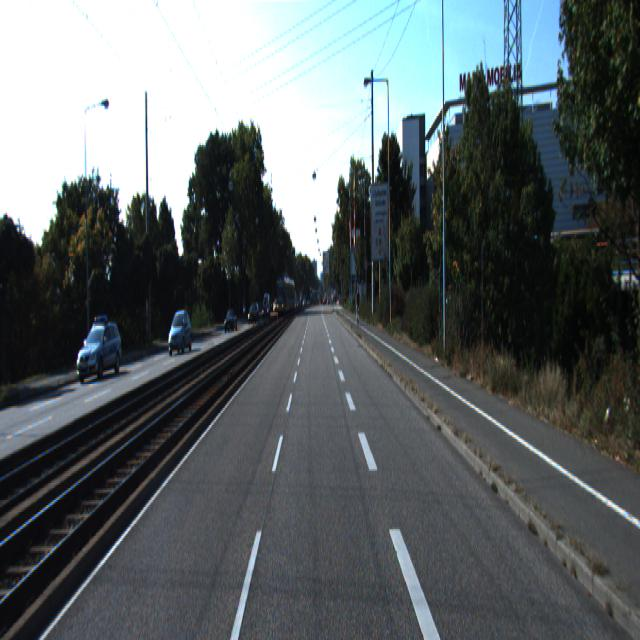Car: (76, 320, 124, 387), (165, 310, 192, 358)
